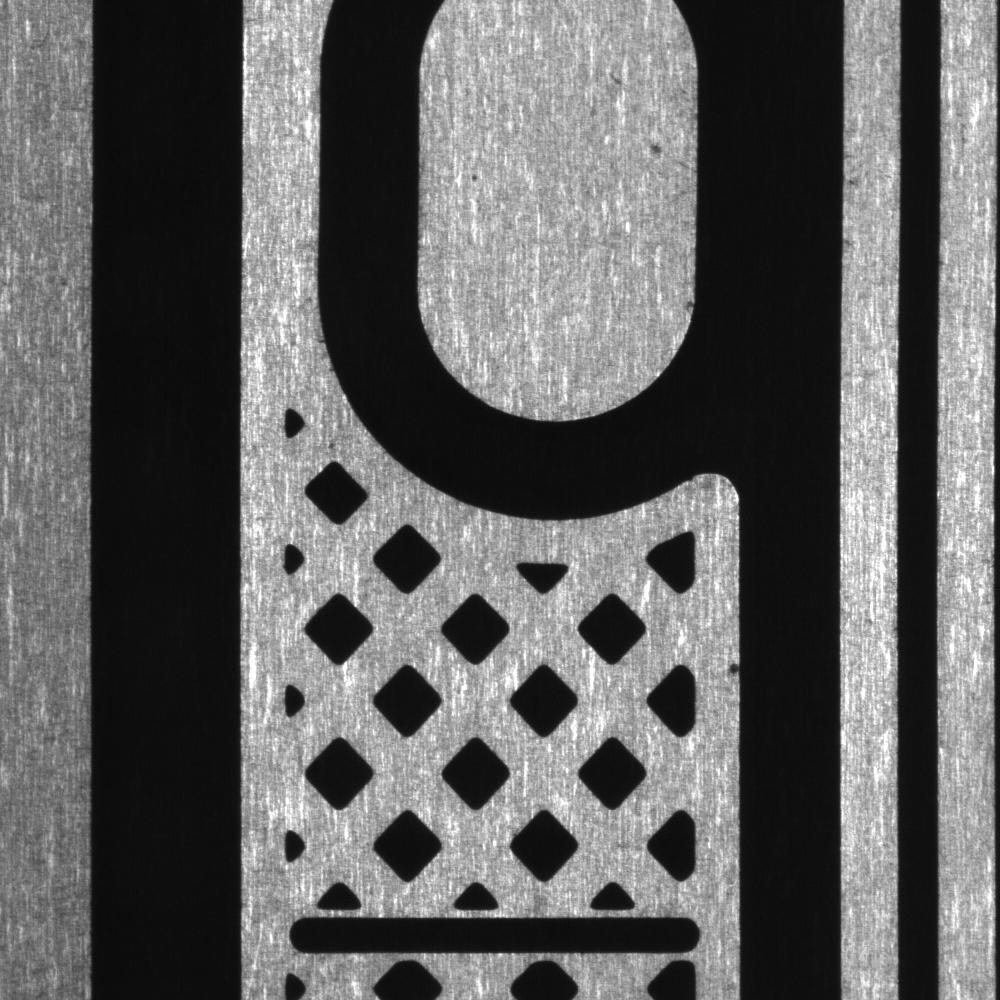Etching: (606, 62, 692, 301), (841, 135, 880, 306)
